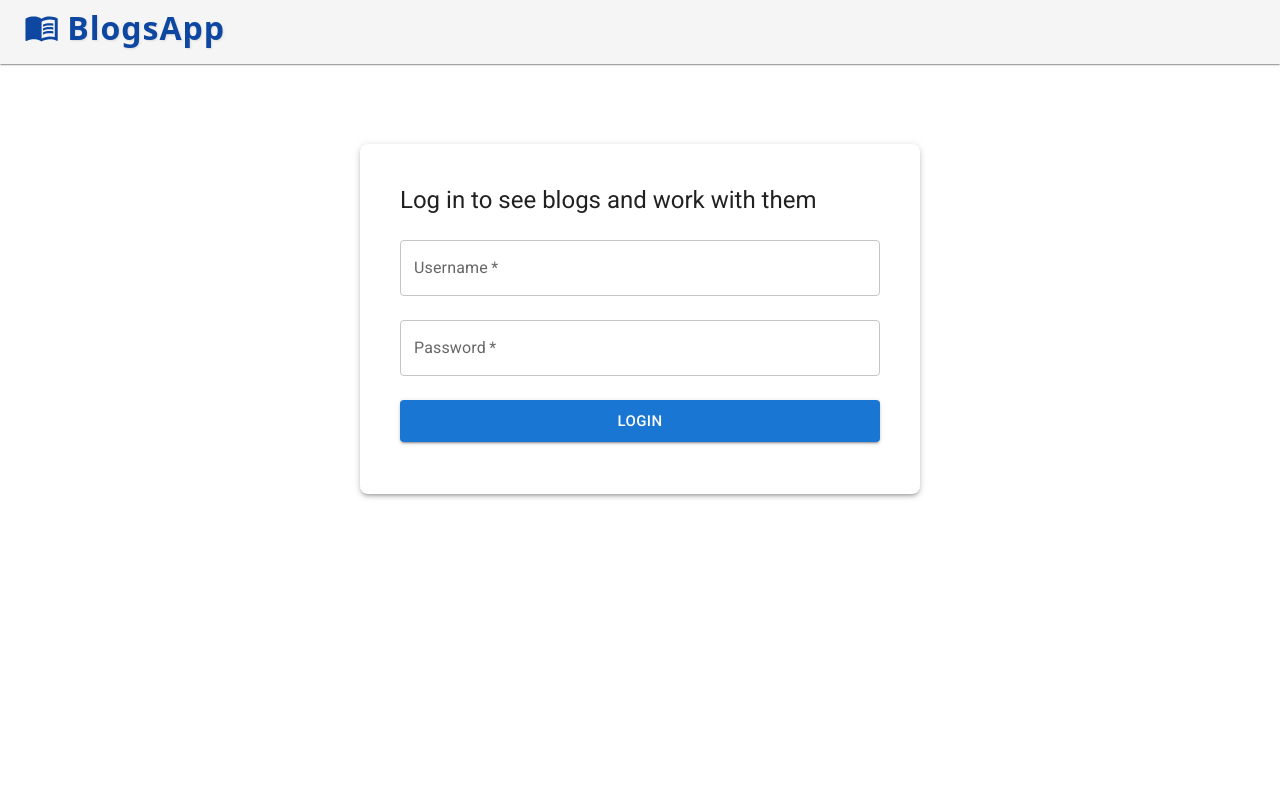
Test: LoginForm integration › logs in successfully and shows AuthStatus + global popup
In the field with test id "username": (640, 268) x1=400 y1=240 x2=880 y2=296, type "tester"
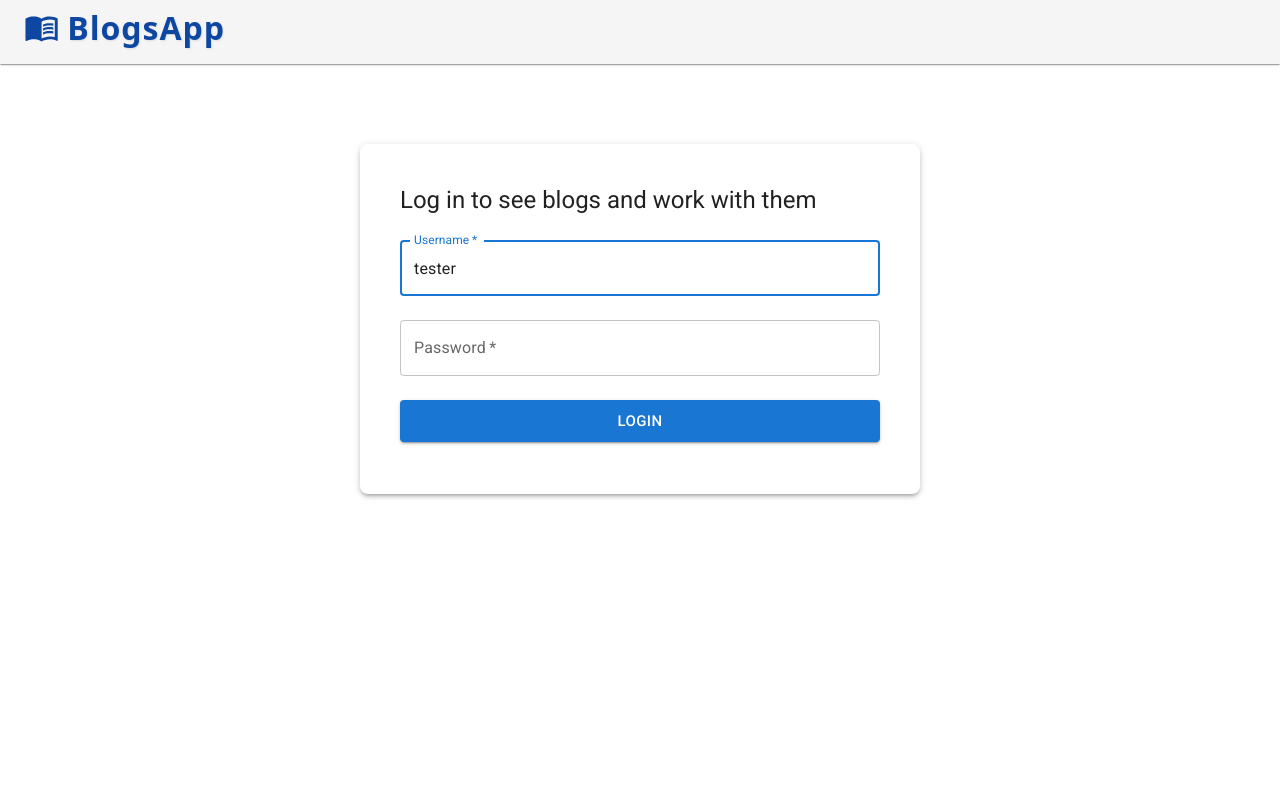
In the password field with test id "password": (640, 348) x1=400 y1=320 x2=880 y2=376, type "secret"
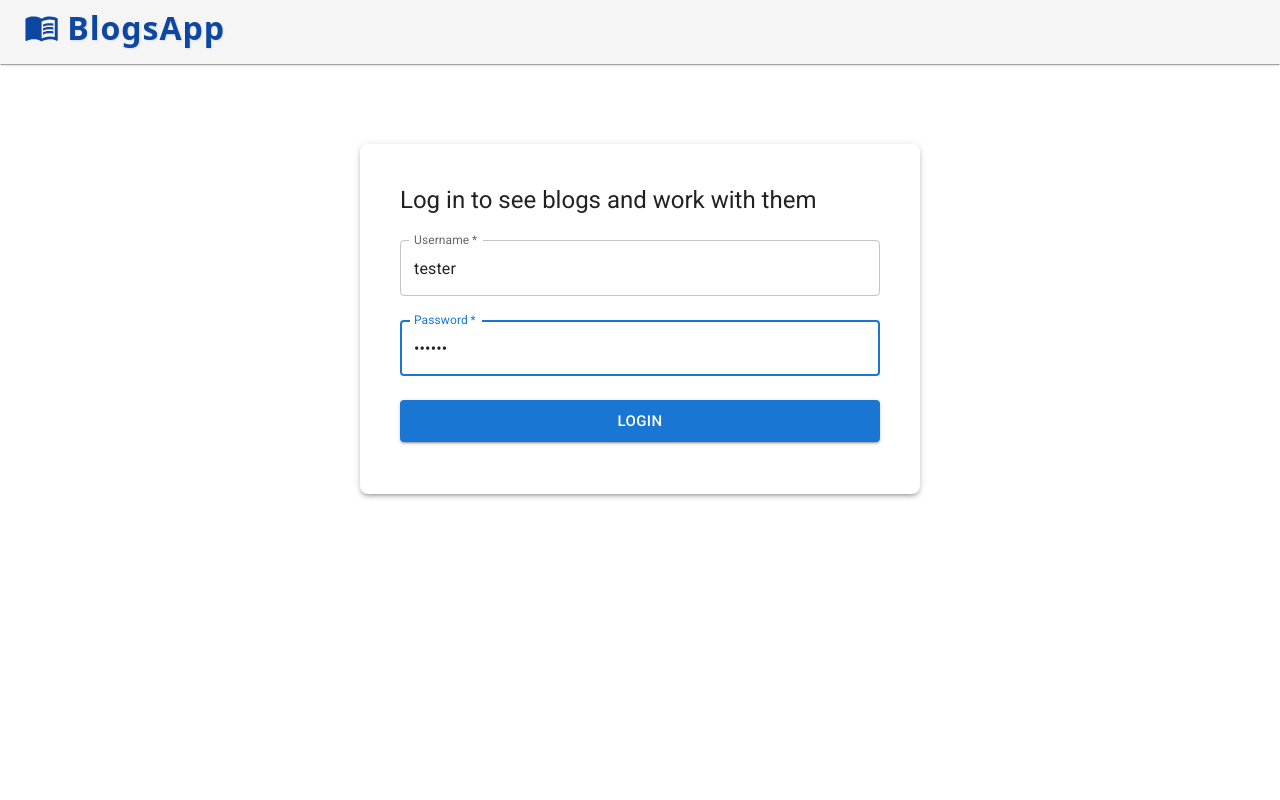
Click the button with test id "login": click(640, 421) x1=400 y1=400 x2=880 y2=442
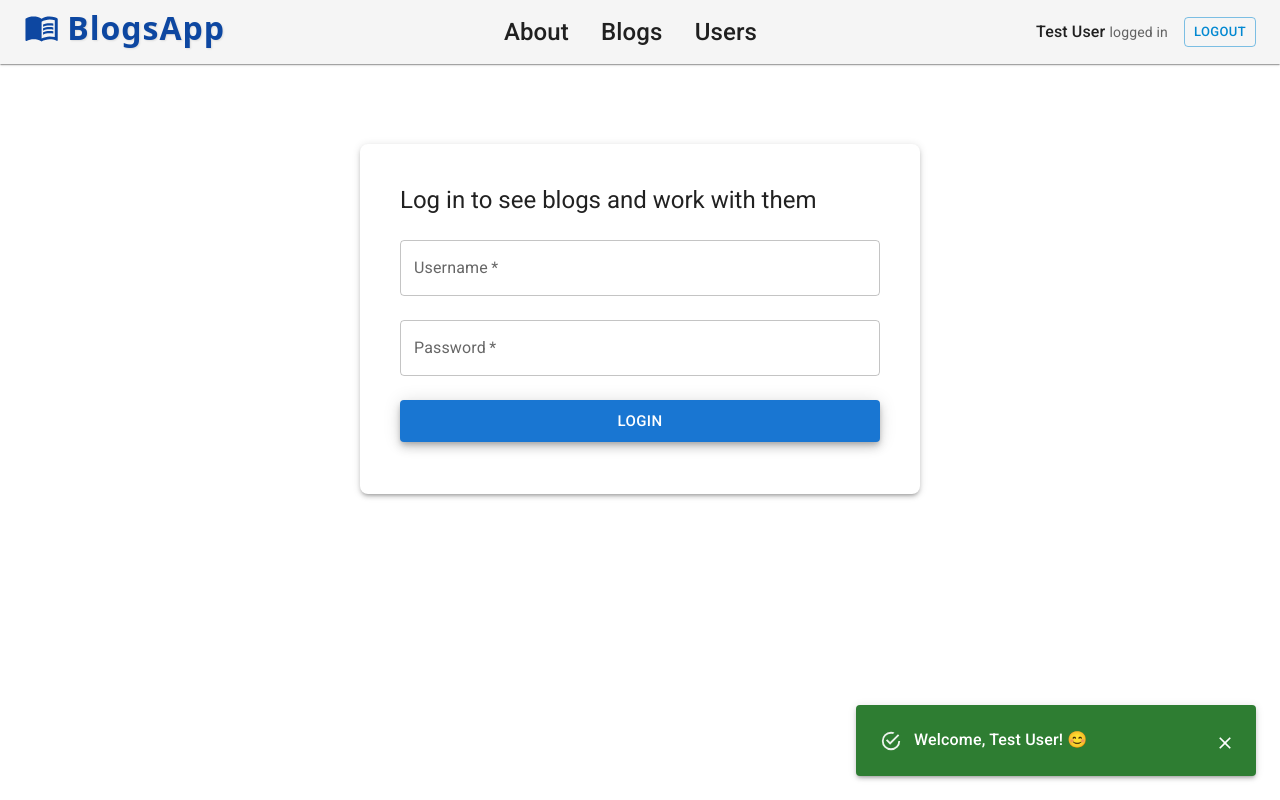
Result: the text "Welcome, Test User! 😊" is shown at x1=914 y1=729 x2=1088 y2=752
Result: the field with test id "username" is empty at x1=400 y1=240 x2=880 y2=296
Result: the password field with test id "password" is empty at x1=400 y1=320 x2=880 y2=376
